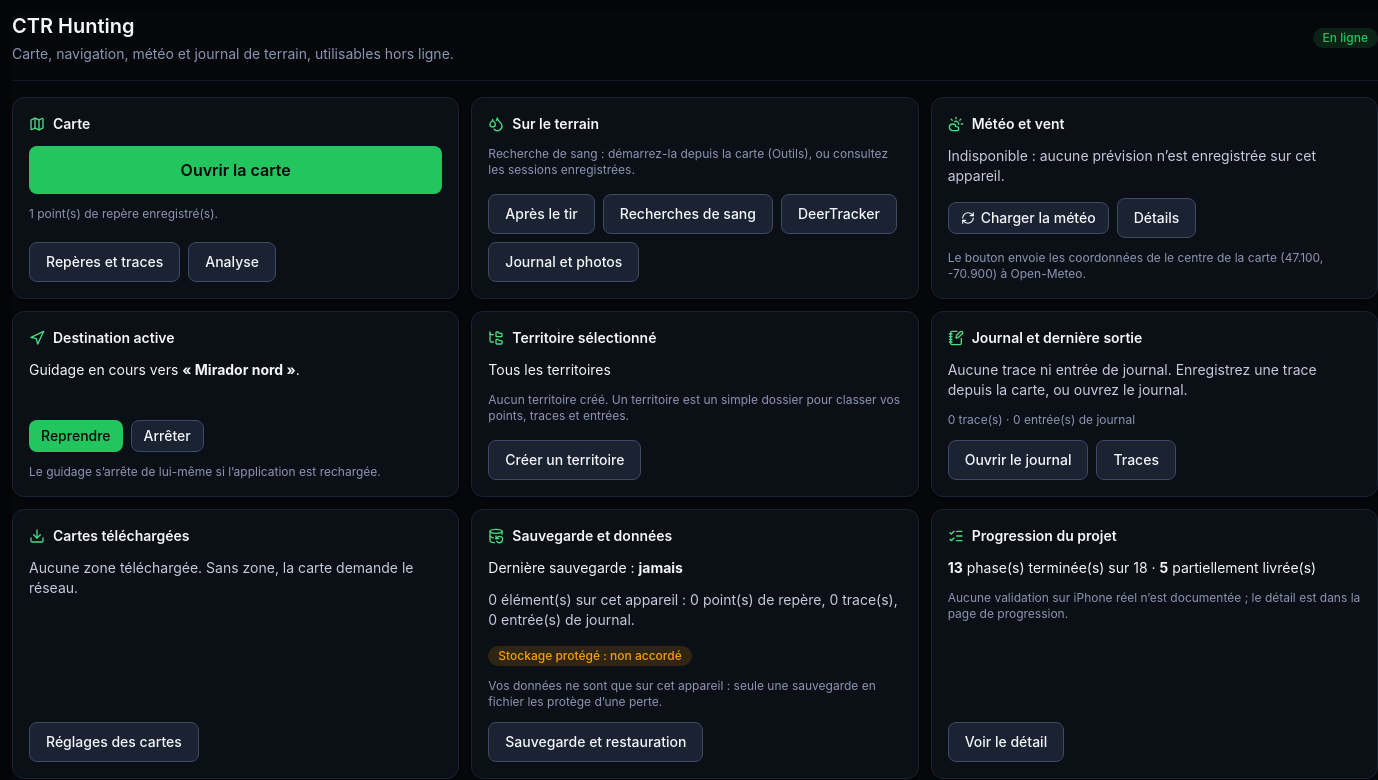
Test case: DashboardPage — active destination › resumes guidance on the map, and stops it on demand
This screenshot has width=1378, height=780.
Check: the text "« Mirador nord »" is shown, box [182, 361, 296, 378]
Click the button "Arrêter". click: (167,436)
box: [131, 420, 204, 452]
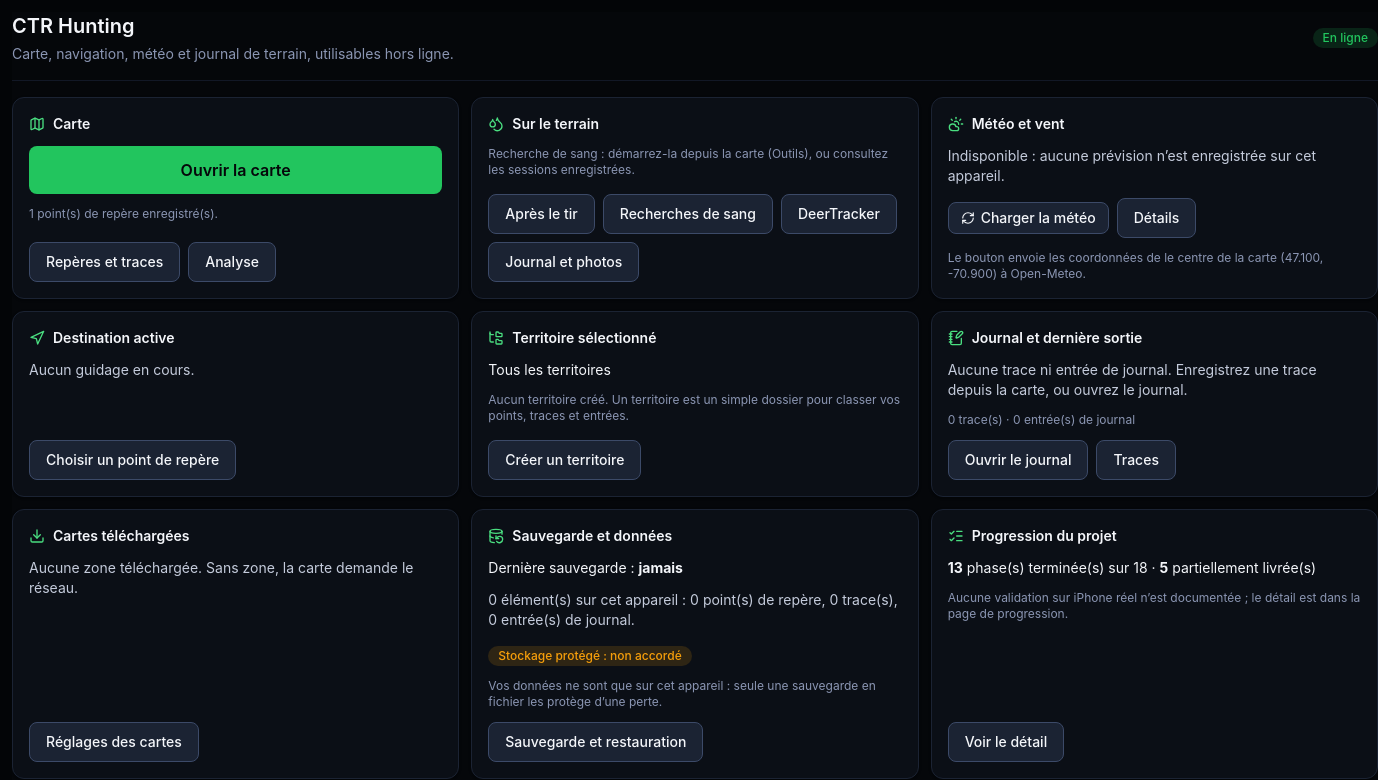
Check: the text "Aucun guidage en cours." is shown, box [29, 361, 194, 378]
